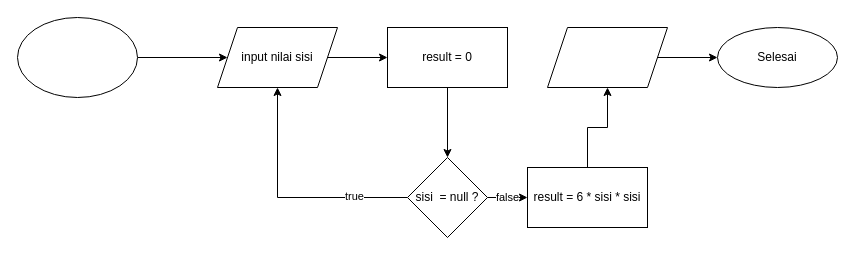
The diagram is 855 pixels wide and 255 high, and some of its shapes have lost their labels. The shapes that lost their labels are listed below. From the top down, each one's box as (x1, y1, x2, y2) in pixels, then its label:
(16, 16, 138, 98): Mulai
(546, 26, 668, 88): "result"
